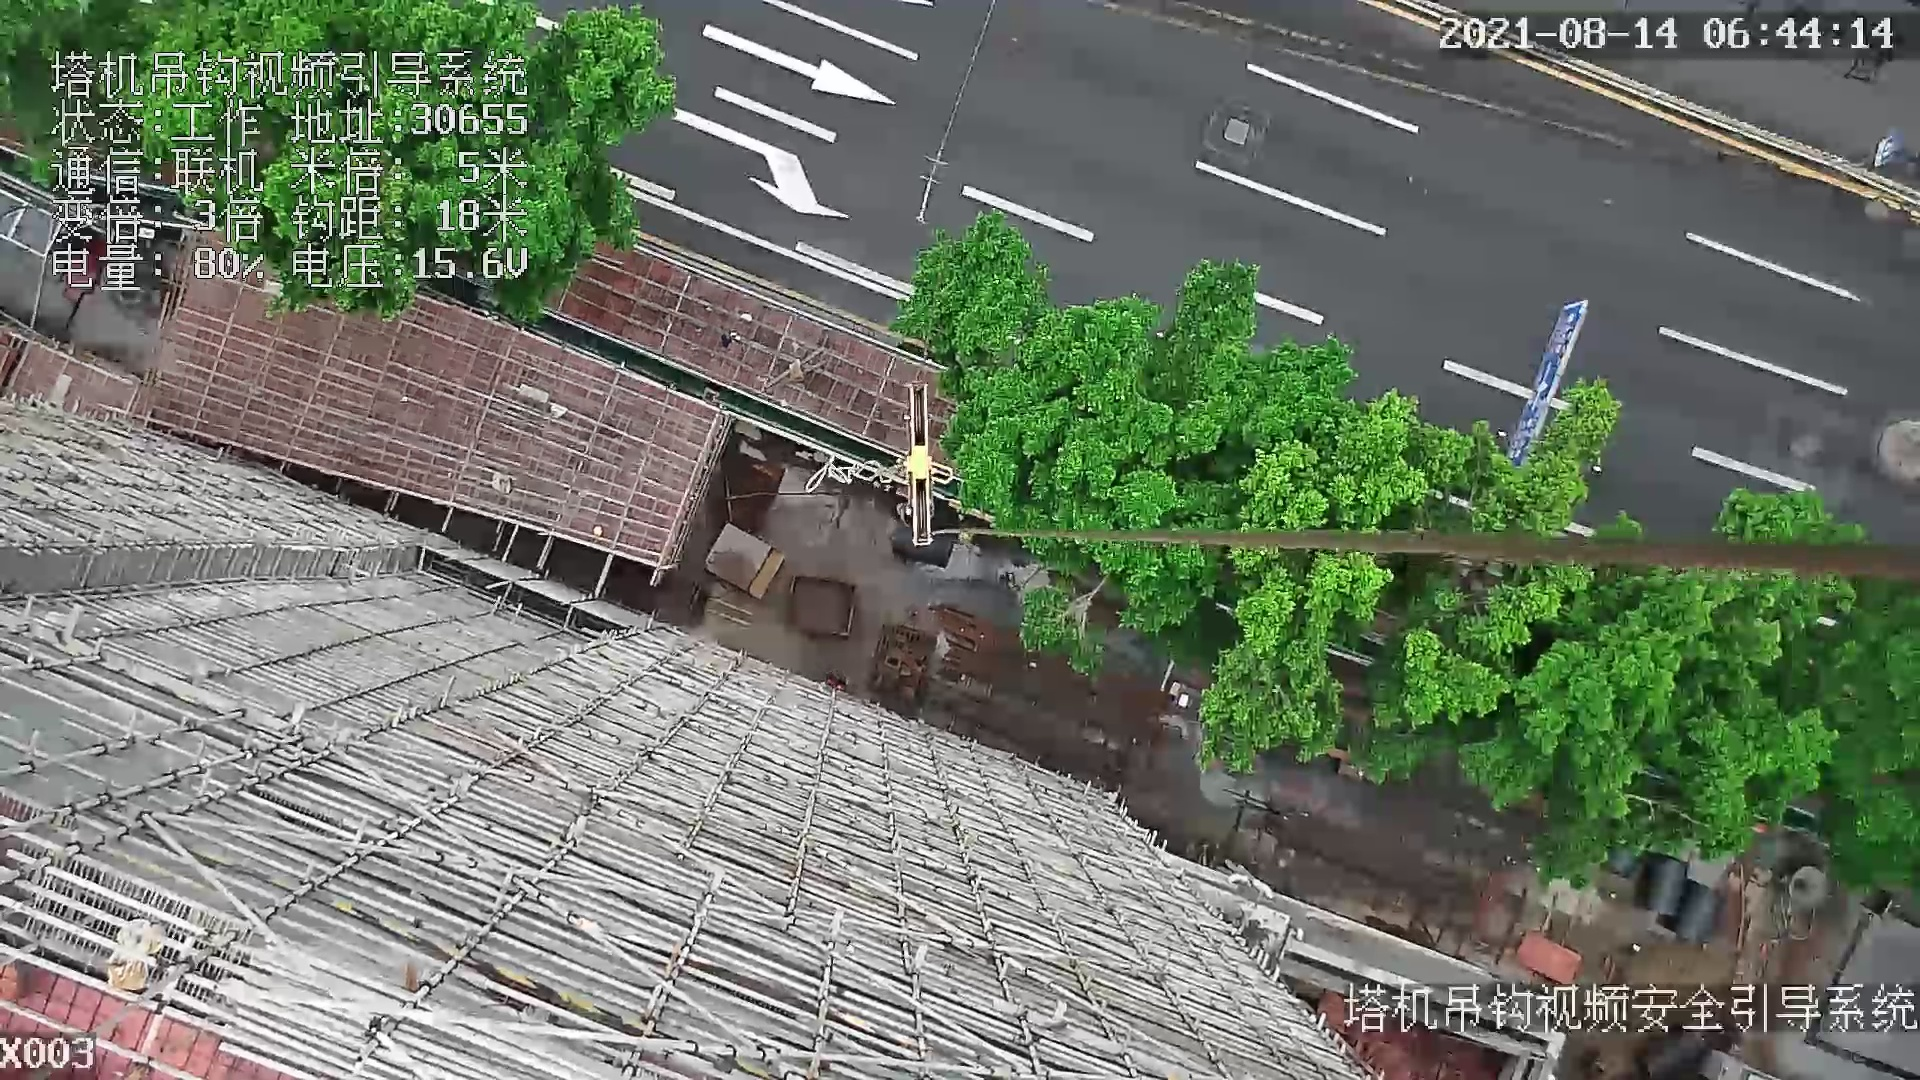hook: (890, 381, 958, 550)
person: (892, 499, 912, 524)
